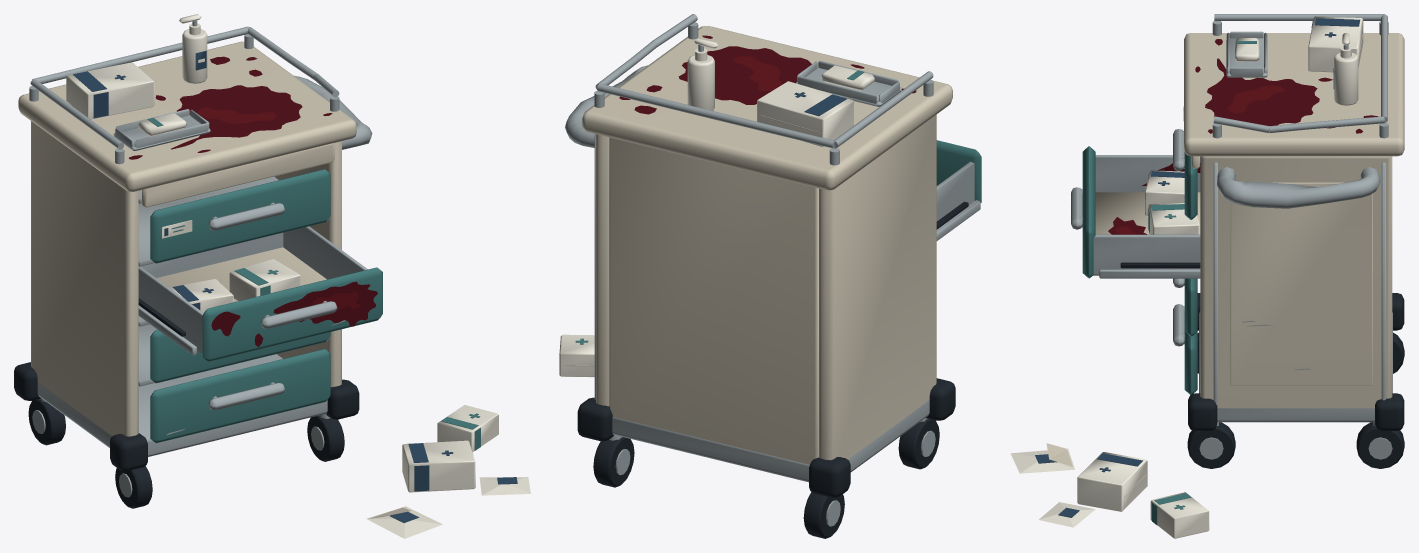
File: supply_cart.glb
3 views of the same model, side by side, from view 1: azimuth 30°, elevation 25°; view 2: azimuth 150°, elevation 25°; view 3: azimuth 270°, elevation 25° (orthographic). The views are drawn at different scales.
Visible parts, largest first — view 1: Medical_Supply_Cart_Disturbed_v3_Static; view 2: Medical_Supply_Cart_Disturbed_v3_Static; view 3: Medical_Supply_Cart_Disturbed_v3_Static.
Boxes of the visible parts, <box> form: Medical_Supply_Cart_Disturbed_v3_Static: <box>14,14,530,538</box>; Medical_Supply_Cart_Disturbed_v3_Static: <box>559,14,981,538</box>; Medical_Supply_Cart_Disturbed_v3_Static: <box>1010,14,1404,538</box>.
Bounding box in the file's own units: 1.16 × 1.23 × 1.1.
